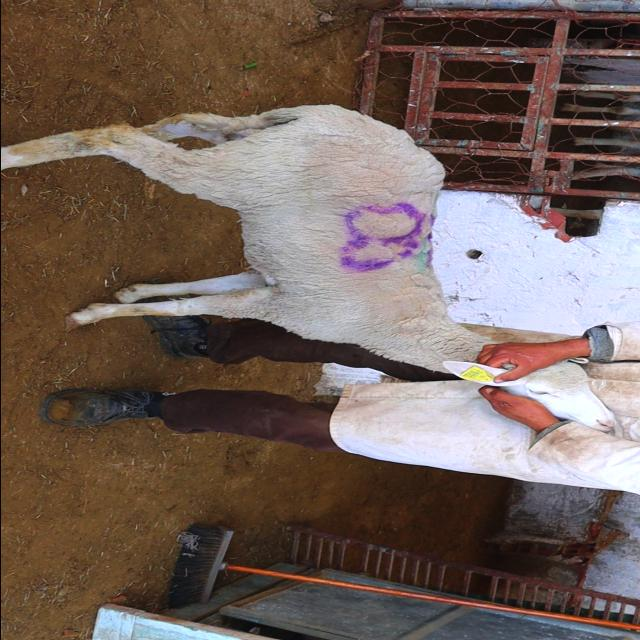Score_2: (1, 104, 483, 374)
